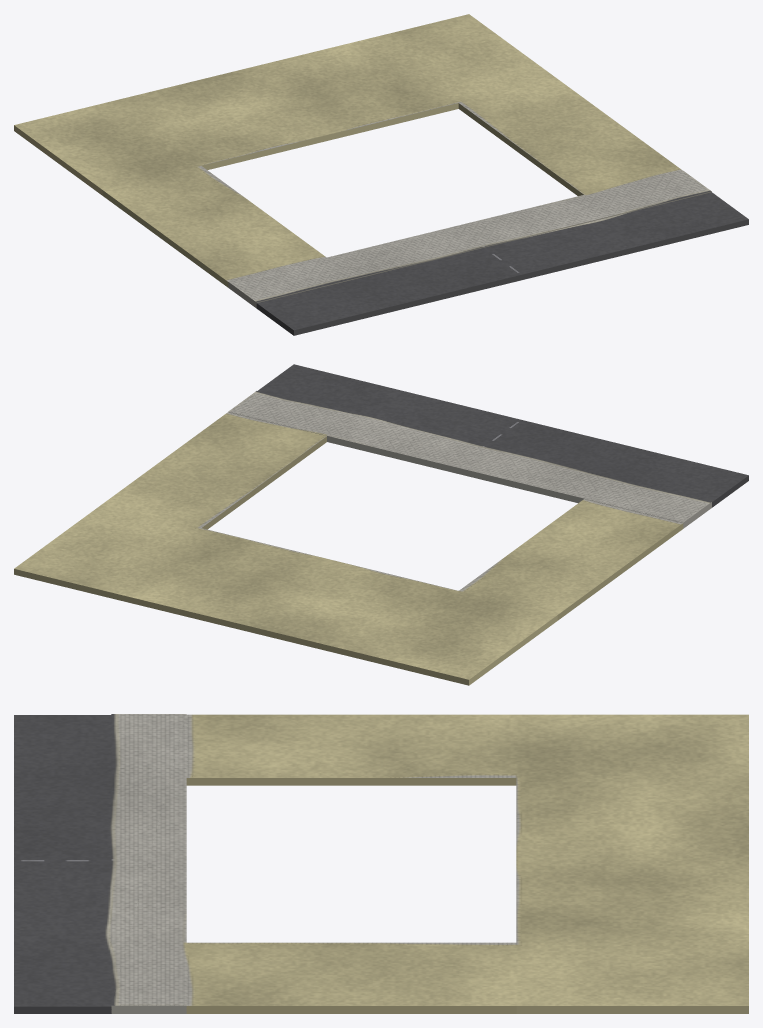
The model's file is museum_plaza.fbx.
3 renders of one model, top to bottom at view 1: azimuth 30°, elevation 25°; view 2: azimuth 150°, elevation 25°; view 3: azimuth 270°, elevation 25°, orthographic. The views are drawn at different scales.
Visible parts, largest first — view 1: museum_plaza; view 2: museum_plaza; view 3: museum_plaza.
Part boxes in pixels (x1,y1,x2,y2): museum_plaza: (14, 14, 748, 335); museum_plaza: (14, 364, 748, 685); museum_plaza: (14, 714, 748, 1013).
Size of the model in its own units: 9200 by 120 by 9800.
